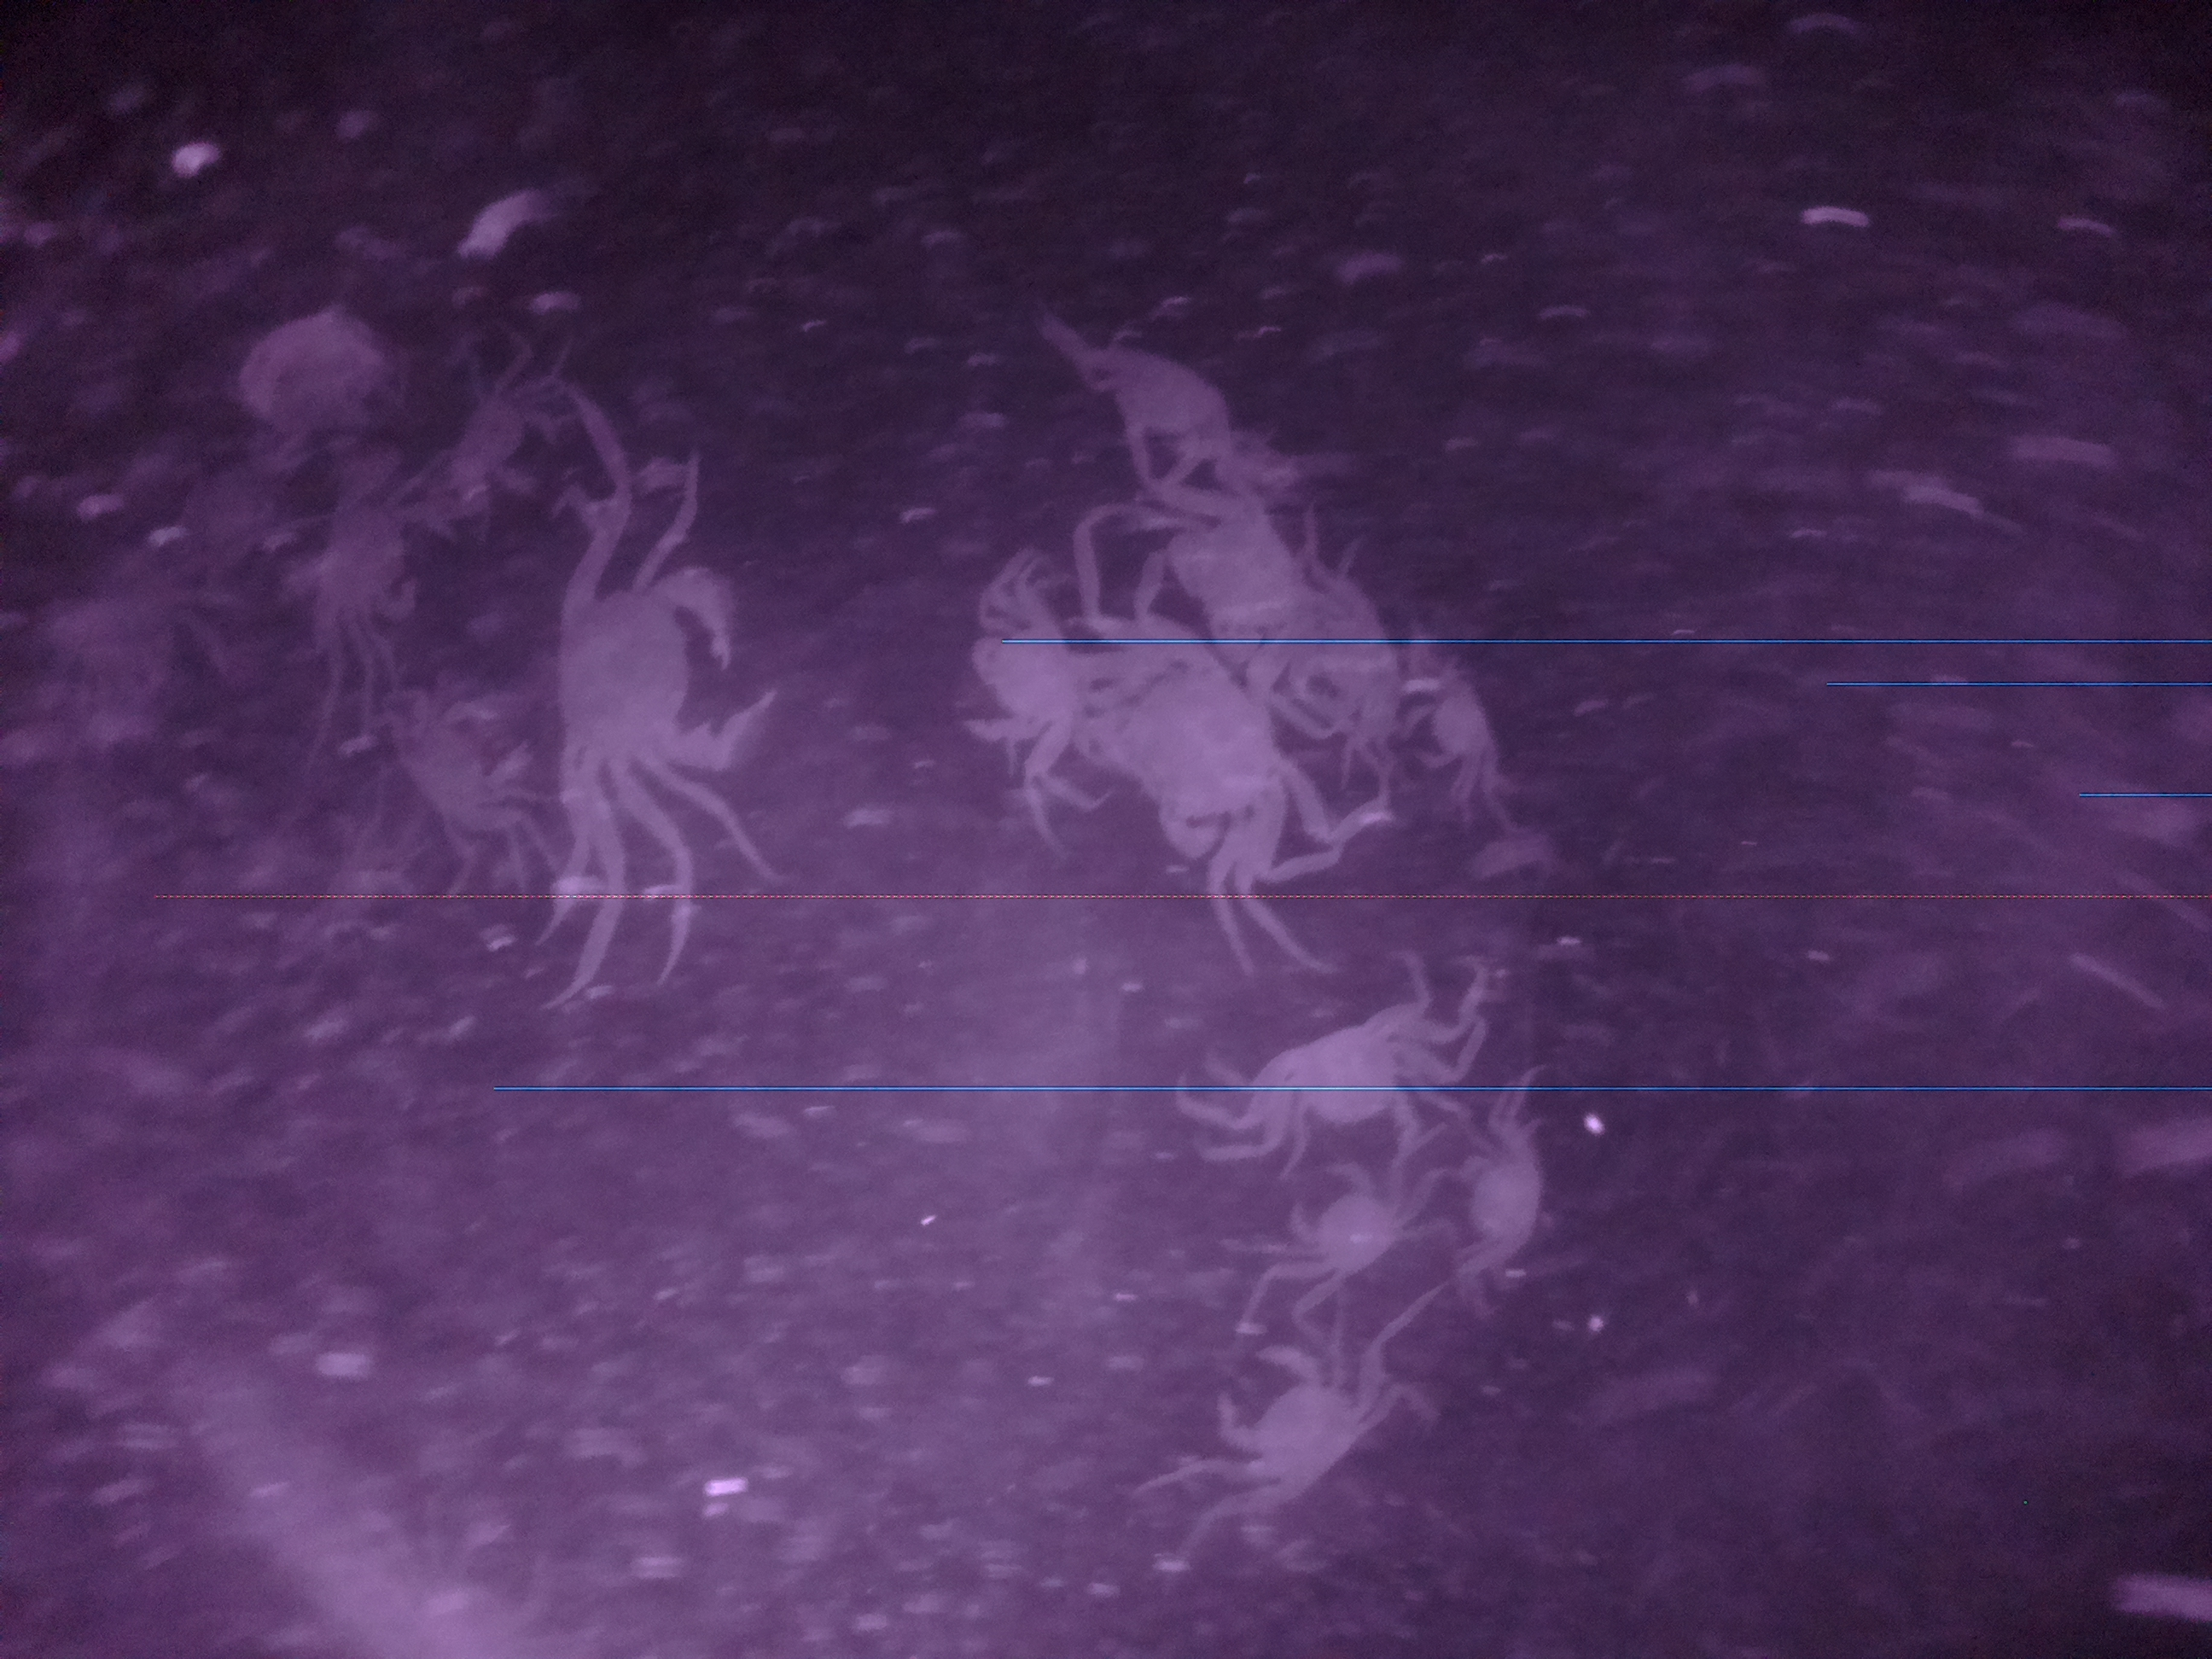Crab: (535, 530, 791, 805), (1198, 1337, 1392, 1539), (300, 472, 469, 641), (1247, 1143, 1416, 1303), (1446, 1108, 1569, 1281)
